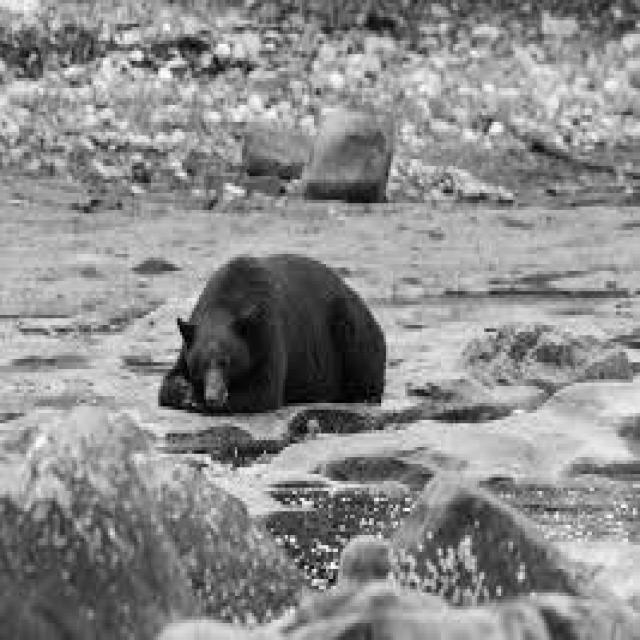Bear: (182, 248, 384, 415)
